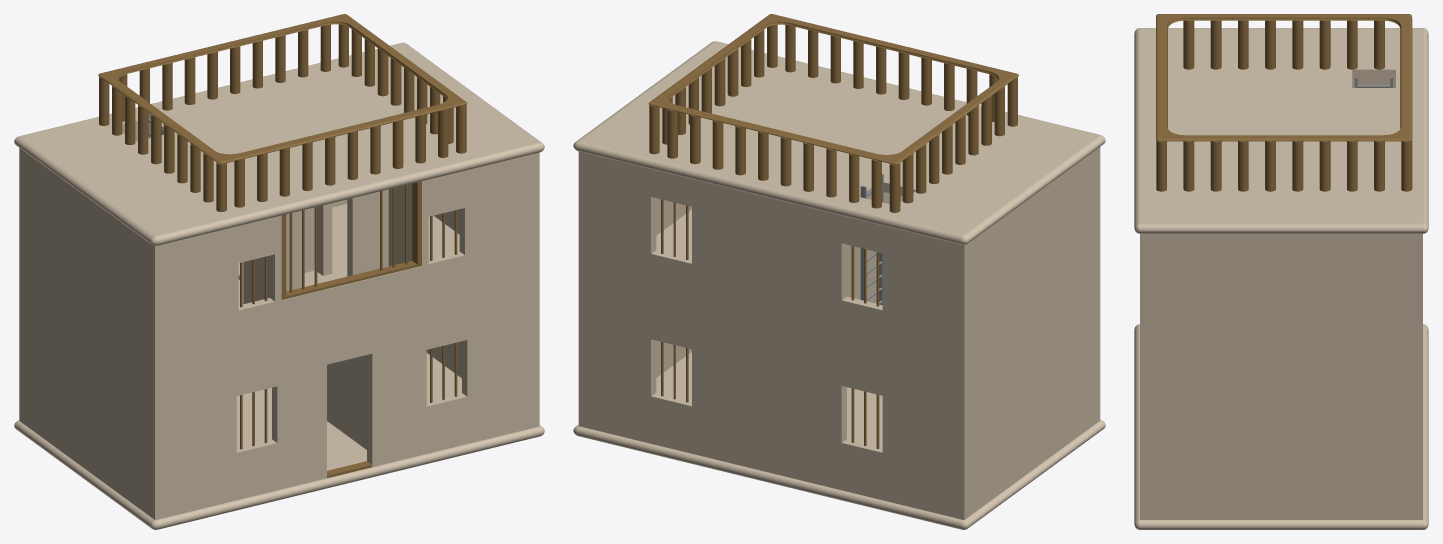
File: house.glb
3 renders of one model, left to right at view 1: azimuth 30°, elevation 25°; view 2: azimuth 150°, elevation 25°; view 3: azimuth 270°, elevation 25°, orthographic. The views are drawn at different scales.
Visible parts, largest first — view 1: Mesh_Mesh_head_geo.001_lambert2SG.001; view 2: Mesh_Mesh_head_geo.001_lambert2SG.001; view 3: Mesh_Mesh_head_geo.001_lambert2SG.001.
Part boxes in pixels (x1,y1,x2,y2): Mesh_Mesh_head_geo.001_lambert2SG.001: [14, 14, 544, 529]; Mesh_Mesh_head_geo.001_lambert2SG.001: [573, 14, 1105, 529]; Mesh_Mesh_head_geo.001_lambert2SG.001: [1134, 14, 1428, 529].
Size of the model in its own units: 0.087 by 0.0725 by 0.054.
